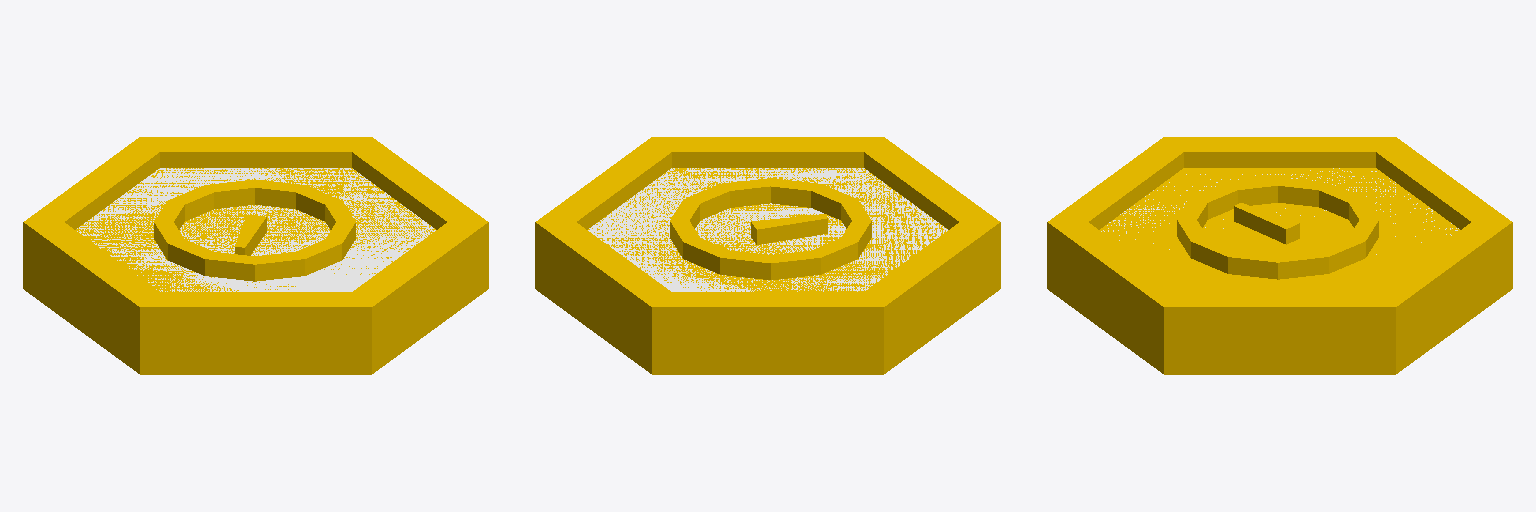
3 renders of one model, left to right at view 1: azimuth 30°, elevation 25°; view 2: azimuth 150°, elevation 25°; view 3: azimuth 270°, elevation 25°, orthographic.
Visible parts, largest first — view 1: Circle_Circle.001, Plane.001; view 2: Circle_Circle.001, Plane.001; view 3: Circle_Circle.001, Plane.001.
Boxes of the visible parts, box(x1,y1,x2,y2) form: Circle_Circle.001: box(23, 137, 488, 374); Plane.001: box(154, 179, 355, 281); Circle_Circle.001: box(535, 137, 1000, 374); Plane.001: box(670, 178, 871, 279); Circle_Circle.001: box(1047, 137, 1512, 374); Plane.001: box(1177, 177, 1378, 279).
Bounding box in the file's own units: 3.13 × 0.6011 × 3.61.
Materials: 1 (1 with a texture image).